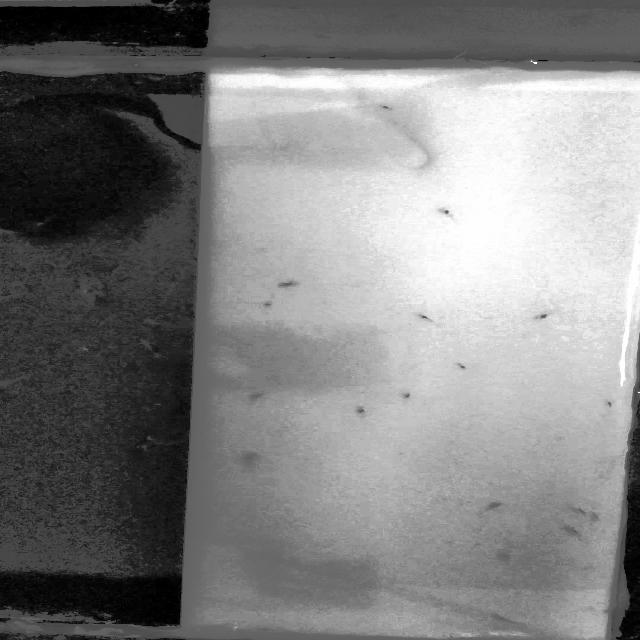shrimp: (535, 303, 561, 325), (420, 314, 454, 327), (436, 205, 462, 220), (560, 526, 586, 540), (234, 449, 261, 462), (252, 300, 283, 310), (572, 507, 594, 520), (453, 360, 470, 375), (493, 612, 519, 621), (375, 102, 398, 112), (246, 389, 269, 399), (486, 501, 506, 512), (400, 389, 418, 401), (493, 552, 514, 562), (278, 280, 305, 287), (257, 626, 277, 634), (353, 410, 375, 417), (605, 401, 618, 408)
